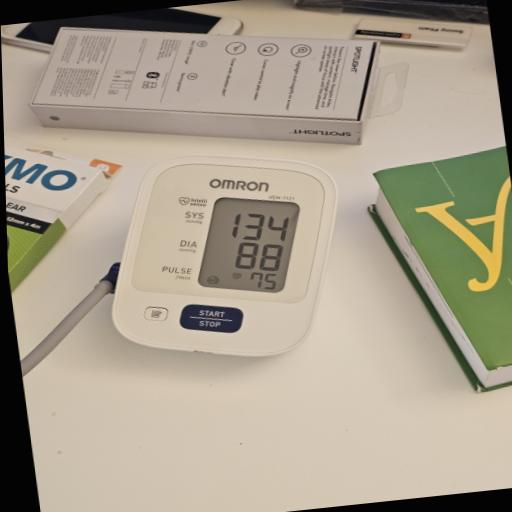lcd display: (186, 188, 314, 302)
